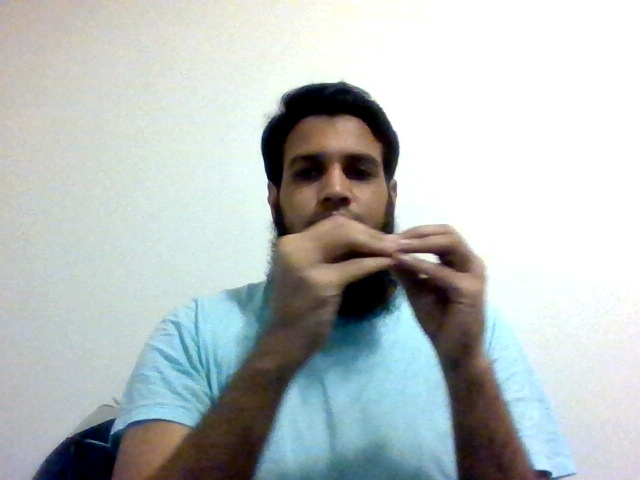more: (266, 214, 491, 372)
